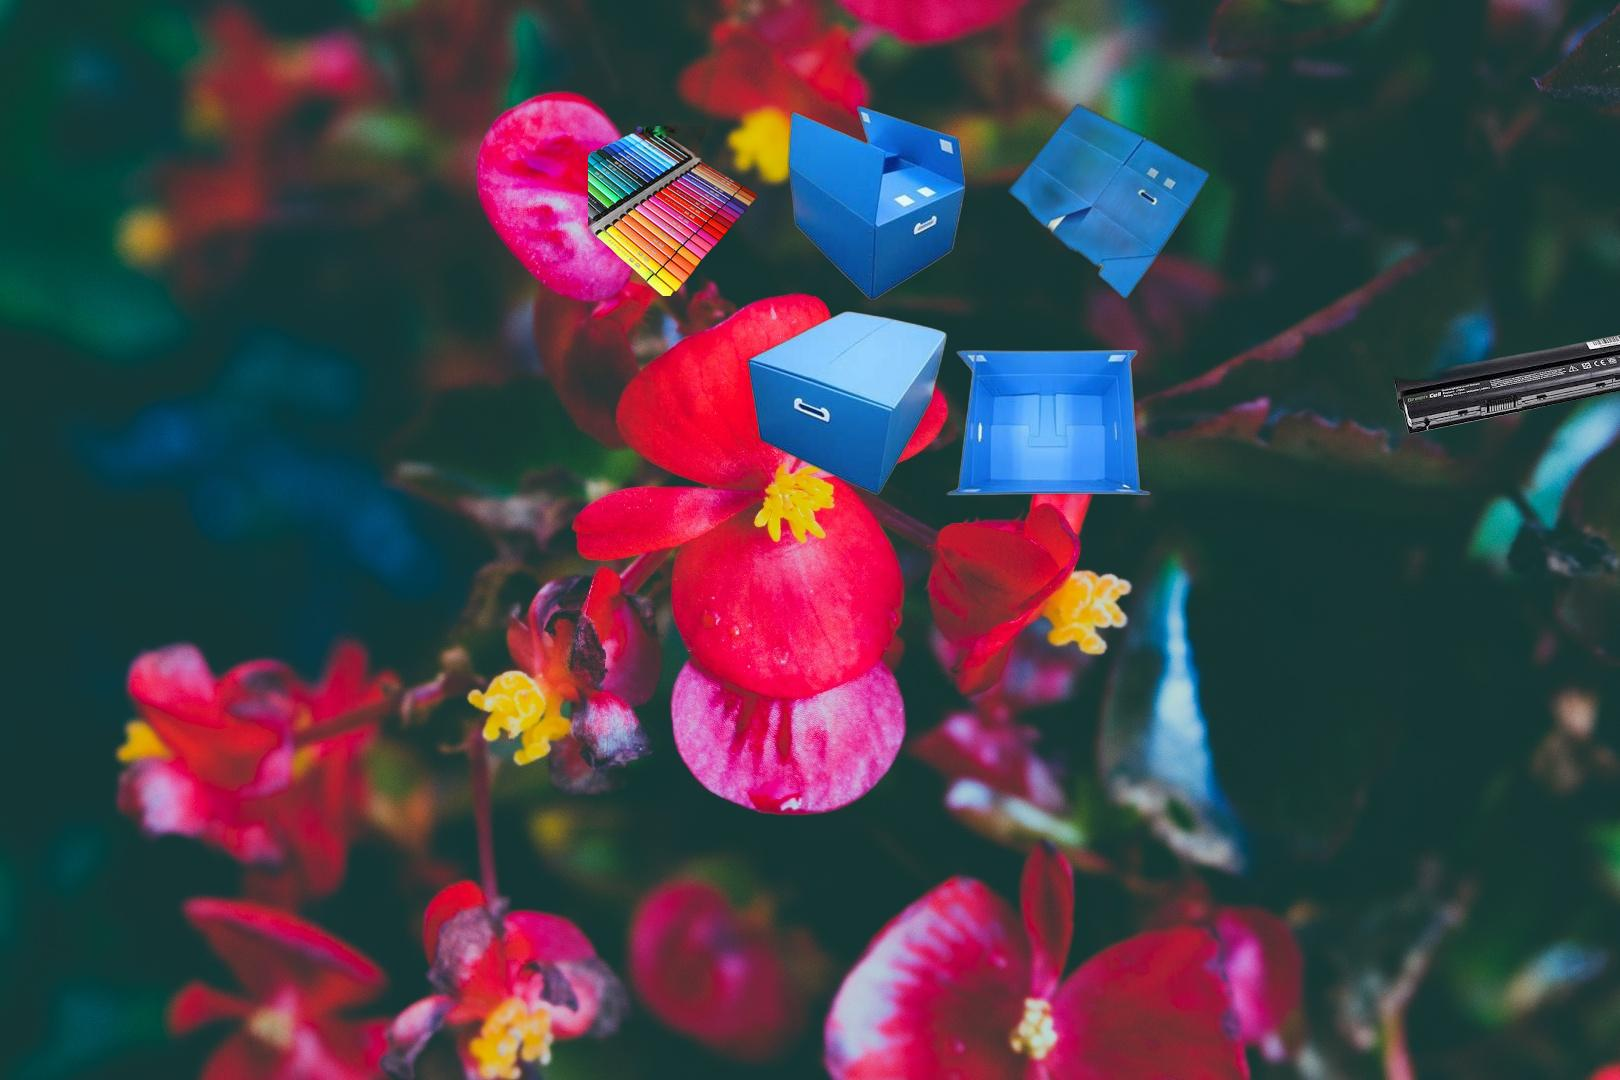battery: (1392, 330, 1620, 438)
penholder: (588, 127, 758, 297)
trashbox-cardboard: (746, 101, 1214, 499)
